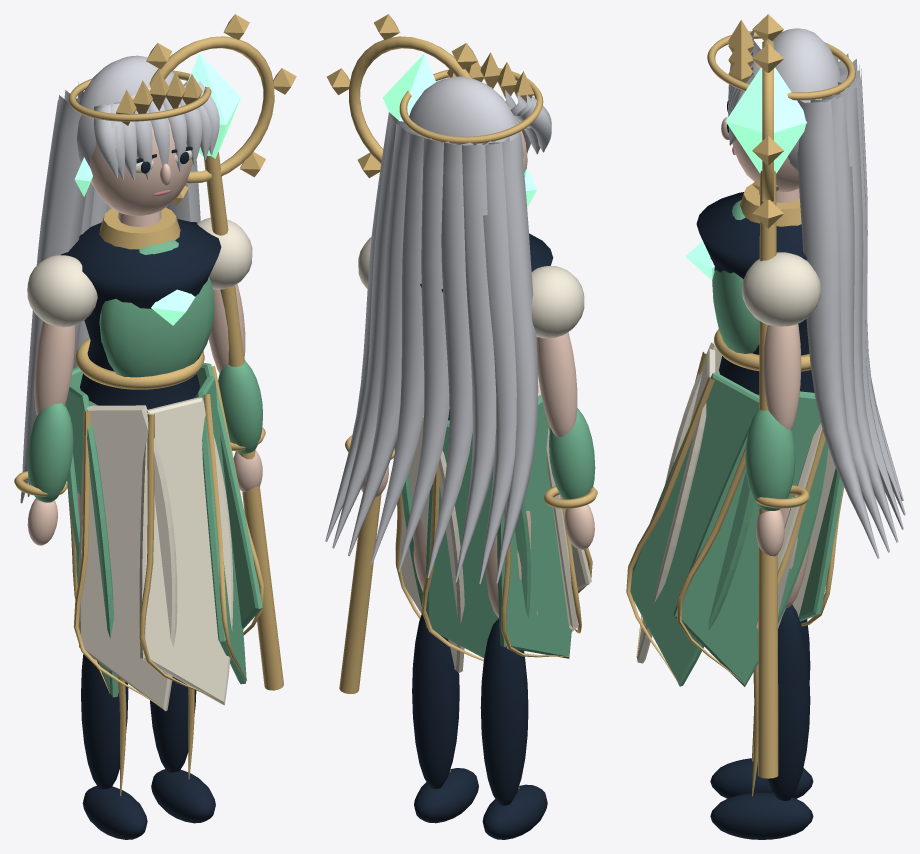
The model's file is specialist.glb.
3 renders of one model, left to right at view 1: azimuth 30°, elevation 25°; view 2: azimuth 150°, elevation 25°; view 3: azimuth 270°, elevation 25°, orthographic. The views are drawn at different scales.
Parts seen in each view (by area): view 1: node_69, node_81, node_3, node_4, node_30, node_59, node_10, node_85, node_71, node_47, node_79, node_73 (+33 smaller); view 2: node_32, node_79, node_33, node_30, node_34, node_31, node_77, node_35, node_36, node_85, node_91, node_37 (+25 smaller); view 3: node_71, node_38, node_73, node_37, node_59, node_3, node_91, node_53, node_36, node_61, node_55, node_93 (+24 smaller).
Boxes of the visible parts, x1,y1,x2,y2 form: node_69: (139,397,233,705); node_81: (78,405,177,711); node_3: (61,219,221,409); node_4: (99,240,214,377); node_30: (20,100,85,503); node_59: (204,152,283,690); node_10: (89,87,192,215); node_85: (81,654,128,789); node_71: (197,376,246,684); node_47: (27,255,97,327); node_79: (66,383,118,697); node_73: (193,363,262,628); node_32: (455,141,496,582); node_79: (497,395,573,658); node_33: (427,141,473,577); node_30: (482,135,538,583); node_34: (398,138,454,571); node_31: (473,137,516,584); node_77: (425,420,530,657); node_35: (371,129,433,564); node_36: (348,123,425,556); node_85: (480,618,528,805); node_91: (412,613,459,788); node_37: (332,117,414,548); node_71: (630,372,759,686); node_38: (797,95,879,558); node_73: (673,391,828,686); node_37: (810,93,889,552); node_59: (758,170,778,778); node_3: (696,192,814,394); node_91: (767,604,810,800); node_53: (741,252,821,326); node_36: (822,87,898,542); node_61: (725,67,806,173); node_55: (745,408,795,510); node_93: (710,792,813,839).
Bounding box in the file's own units: 0.7335 × 2.02 × 0.6234.
